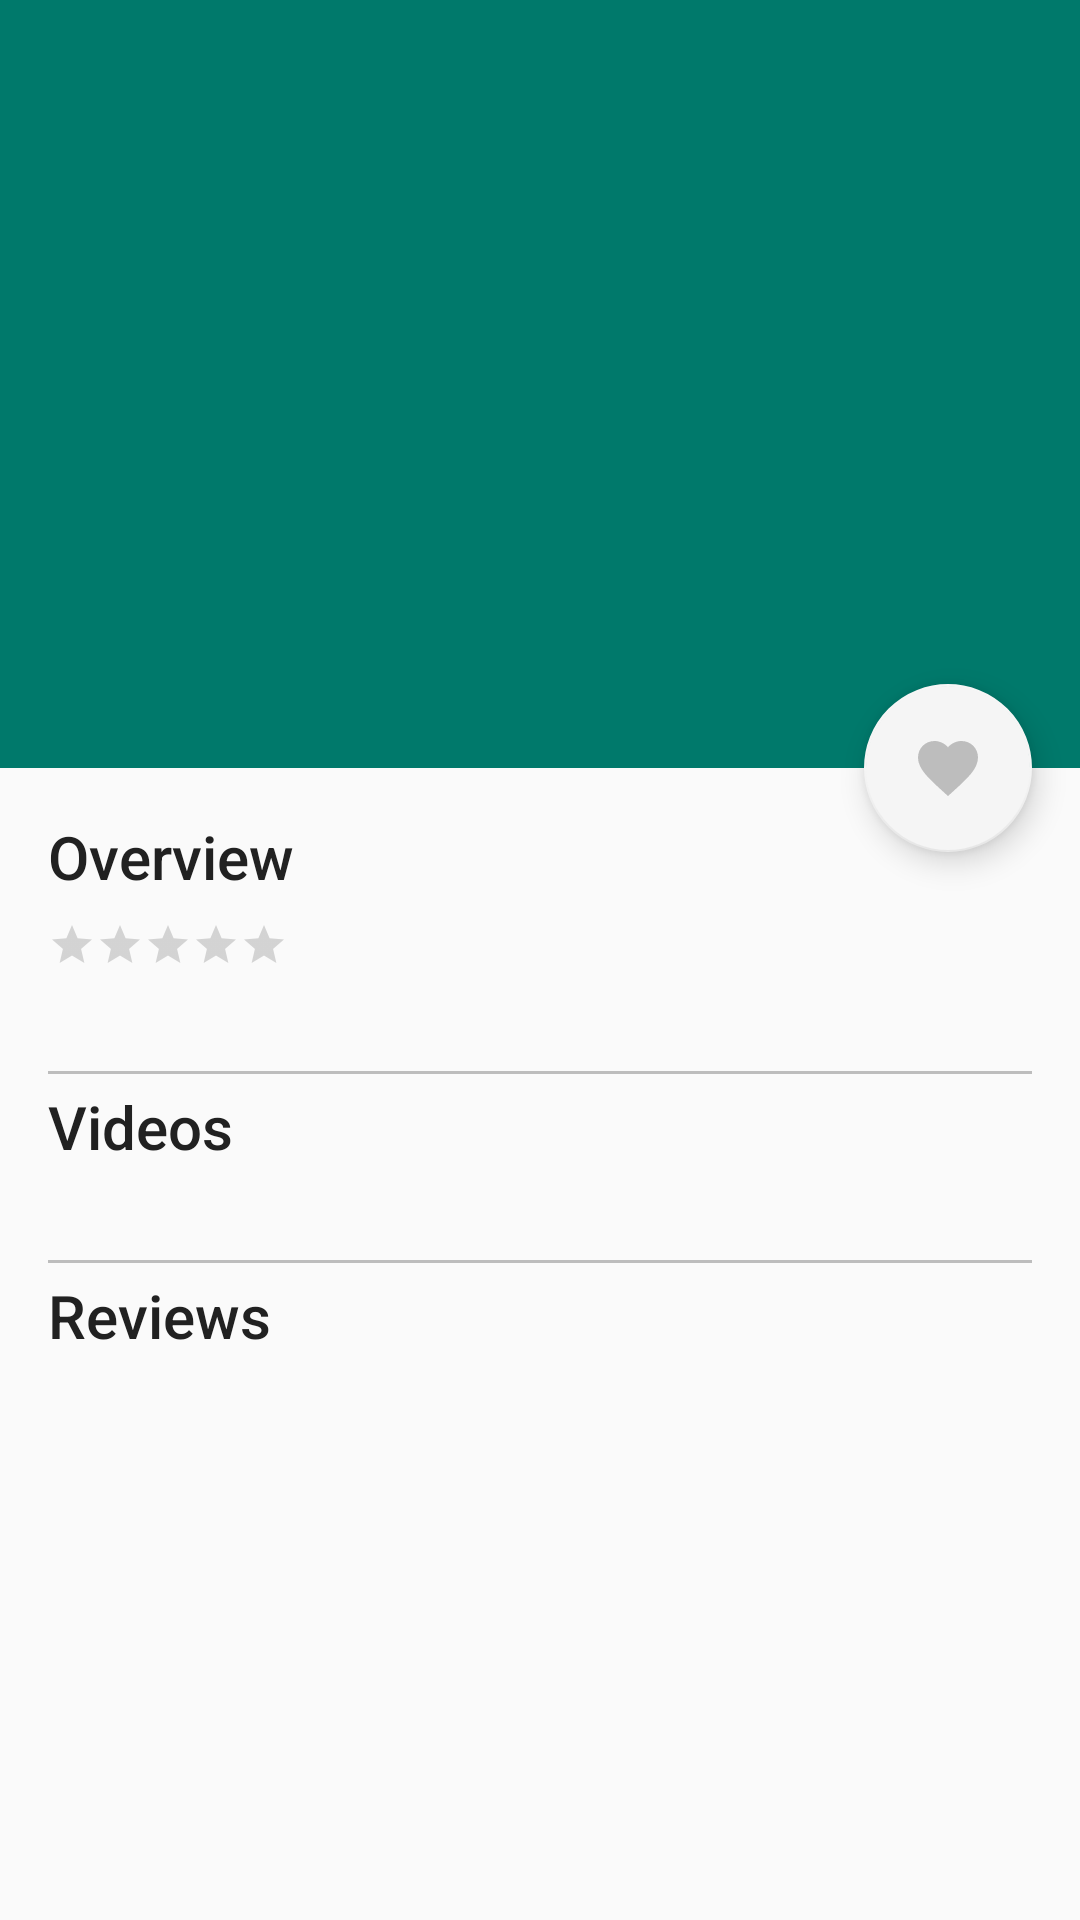

Icon click points for this 1080x1920 phone screenshot, format (x=x, y=y):
favorite: (x=948, y=768)
